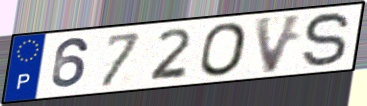2: (147, 26, 193, 84)
6: (50, 36, 91, 92)
7: (99, 30, 144, 88)
O: (198, 20, 250, 78)
S: (300, 10, 353, 70)
V: (252, 12, 307, 77)
